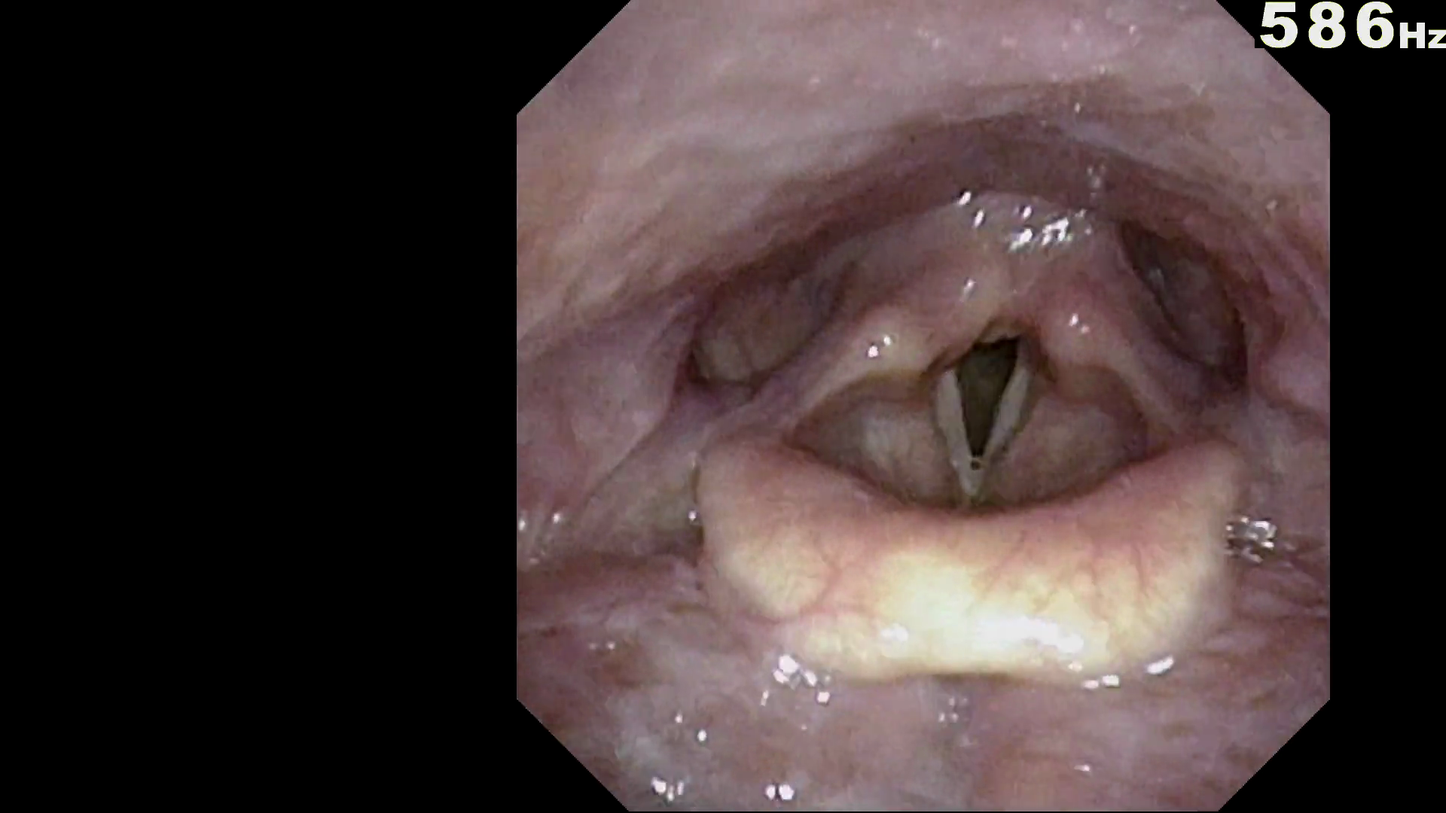epiglottis: (711, 455, 1219, 665)
trachea: (921, 327, 1066, 505)
